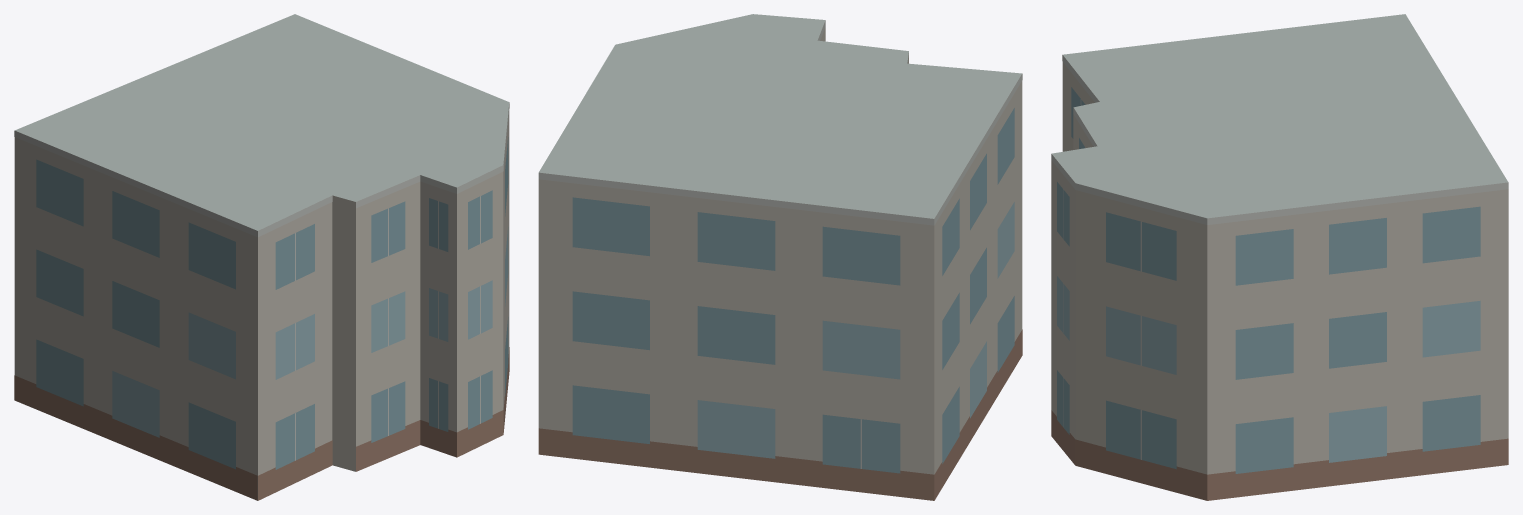
Rendered from survey-upis-33041939.glb.
3 views of the same model, side by side, from view 1: azimuth 30°, elevation 25°; view 2: azimuth 150°, elevation 25°; view 3: azimuth 270°, elevation 25° (orthographic). The views are drawn at different scales.
Visible parts, largest first — view 1: survey-upis-33041939.tmp; view 2: survey-upis-33041939.tmp; view 3: survey-upis-33041939.tmp.
Boxes of the visible parts, x1=… form: survey-upis-33041939.tmp: x1=14, y1=14, x2=509, y2=500; survey-upis-33041939.tmp: x1=538, y1=14, x2=1022, y2=500; survey-upis-33041939.tmp: x1=1051, y1=14, x2=1508, y2=500.
Bounding box in the file's own units: 15.83 × 10.2 × 14.97.
